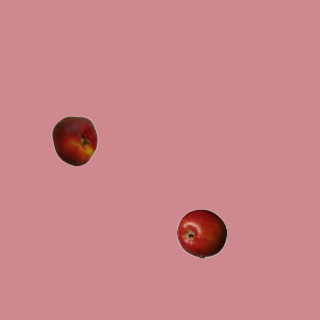Apple Braeburn: (176, 208, 226, 258)
Nectarine Flat: (49, 115, 99, 165)
